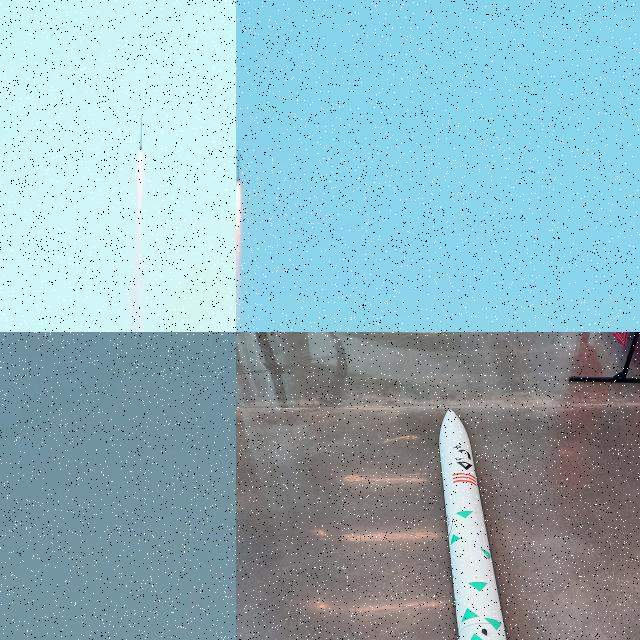Rocket: (439, 408, 508, 640), (236, 142, 241, 183), (139, 114, 144, 150)
